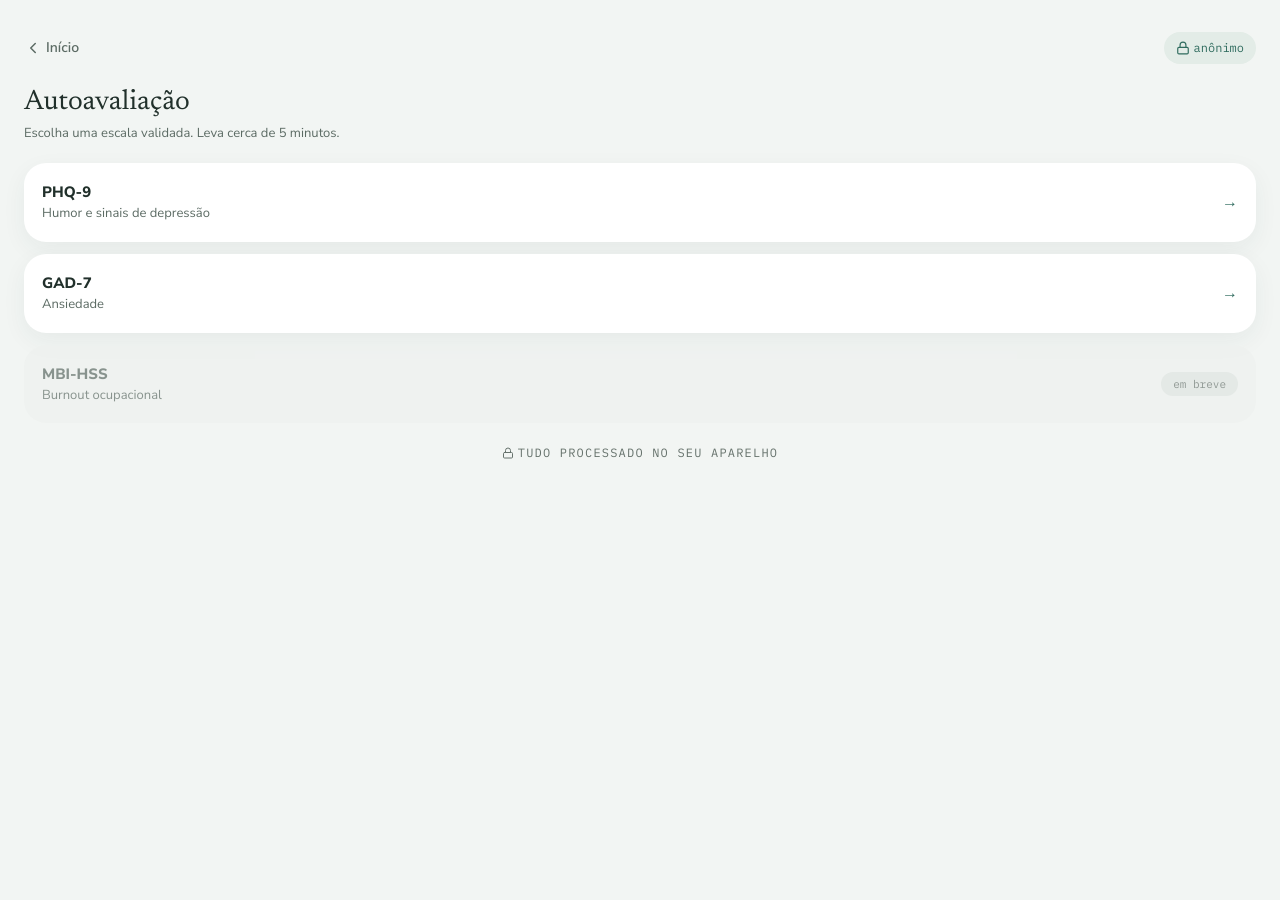
AssessmentSelectPage › closes the encryption info modal from the close button
Click the button with aria-label "Saiba mais sobre a criptografia AES-256" at x=640, y=453, box [24,447,1256,459]
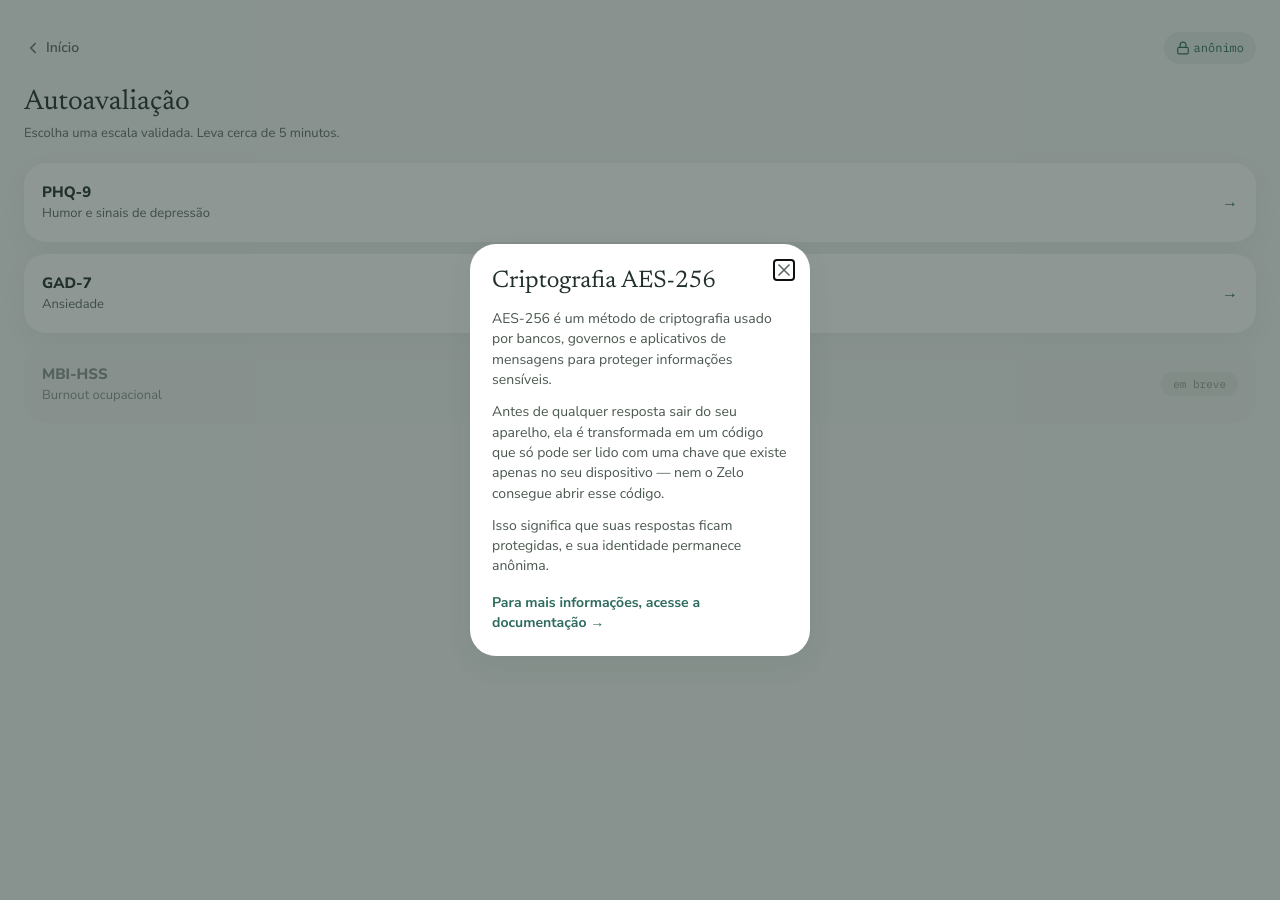
Click the button named "Fechar" at x=784, y=270, box [774,260,794,280]
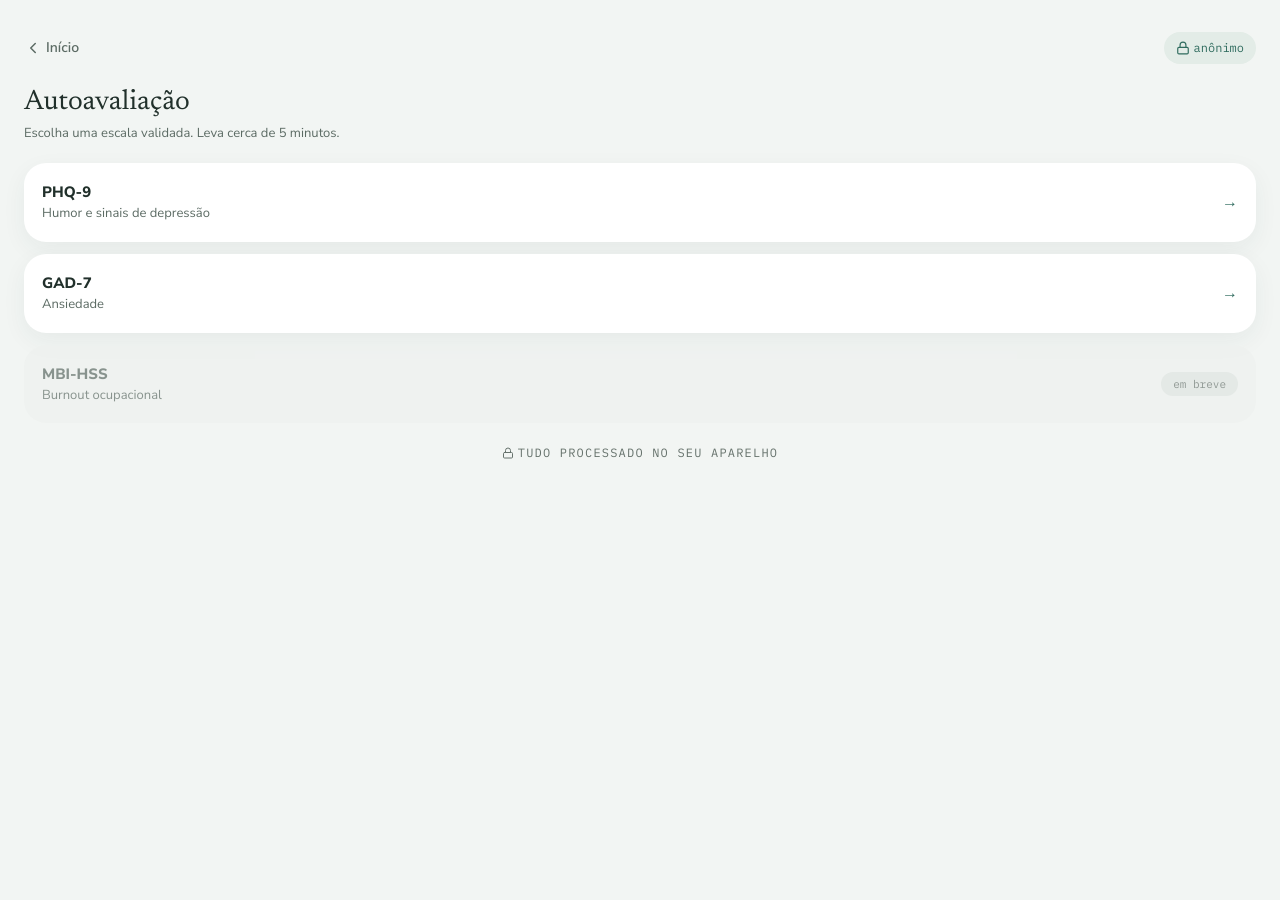
Expected: the dialog is gone
